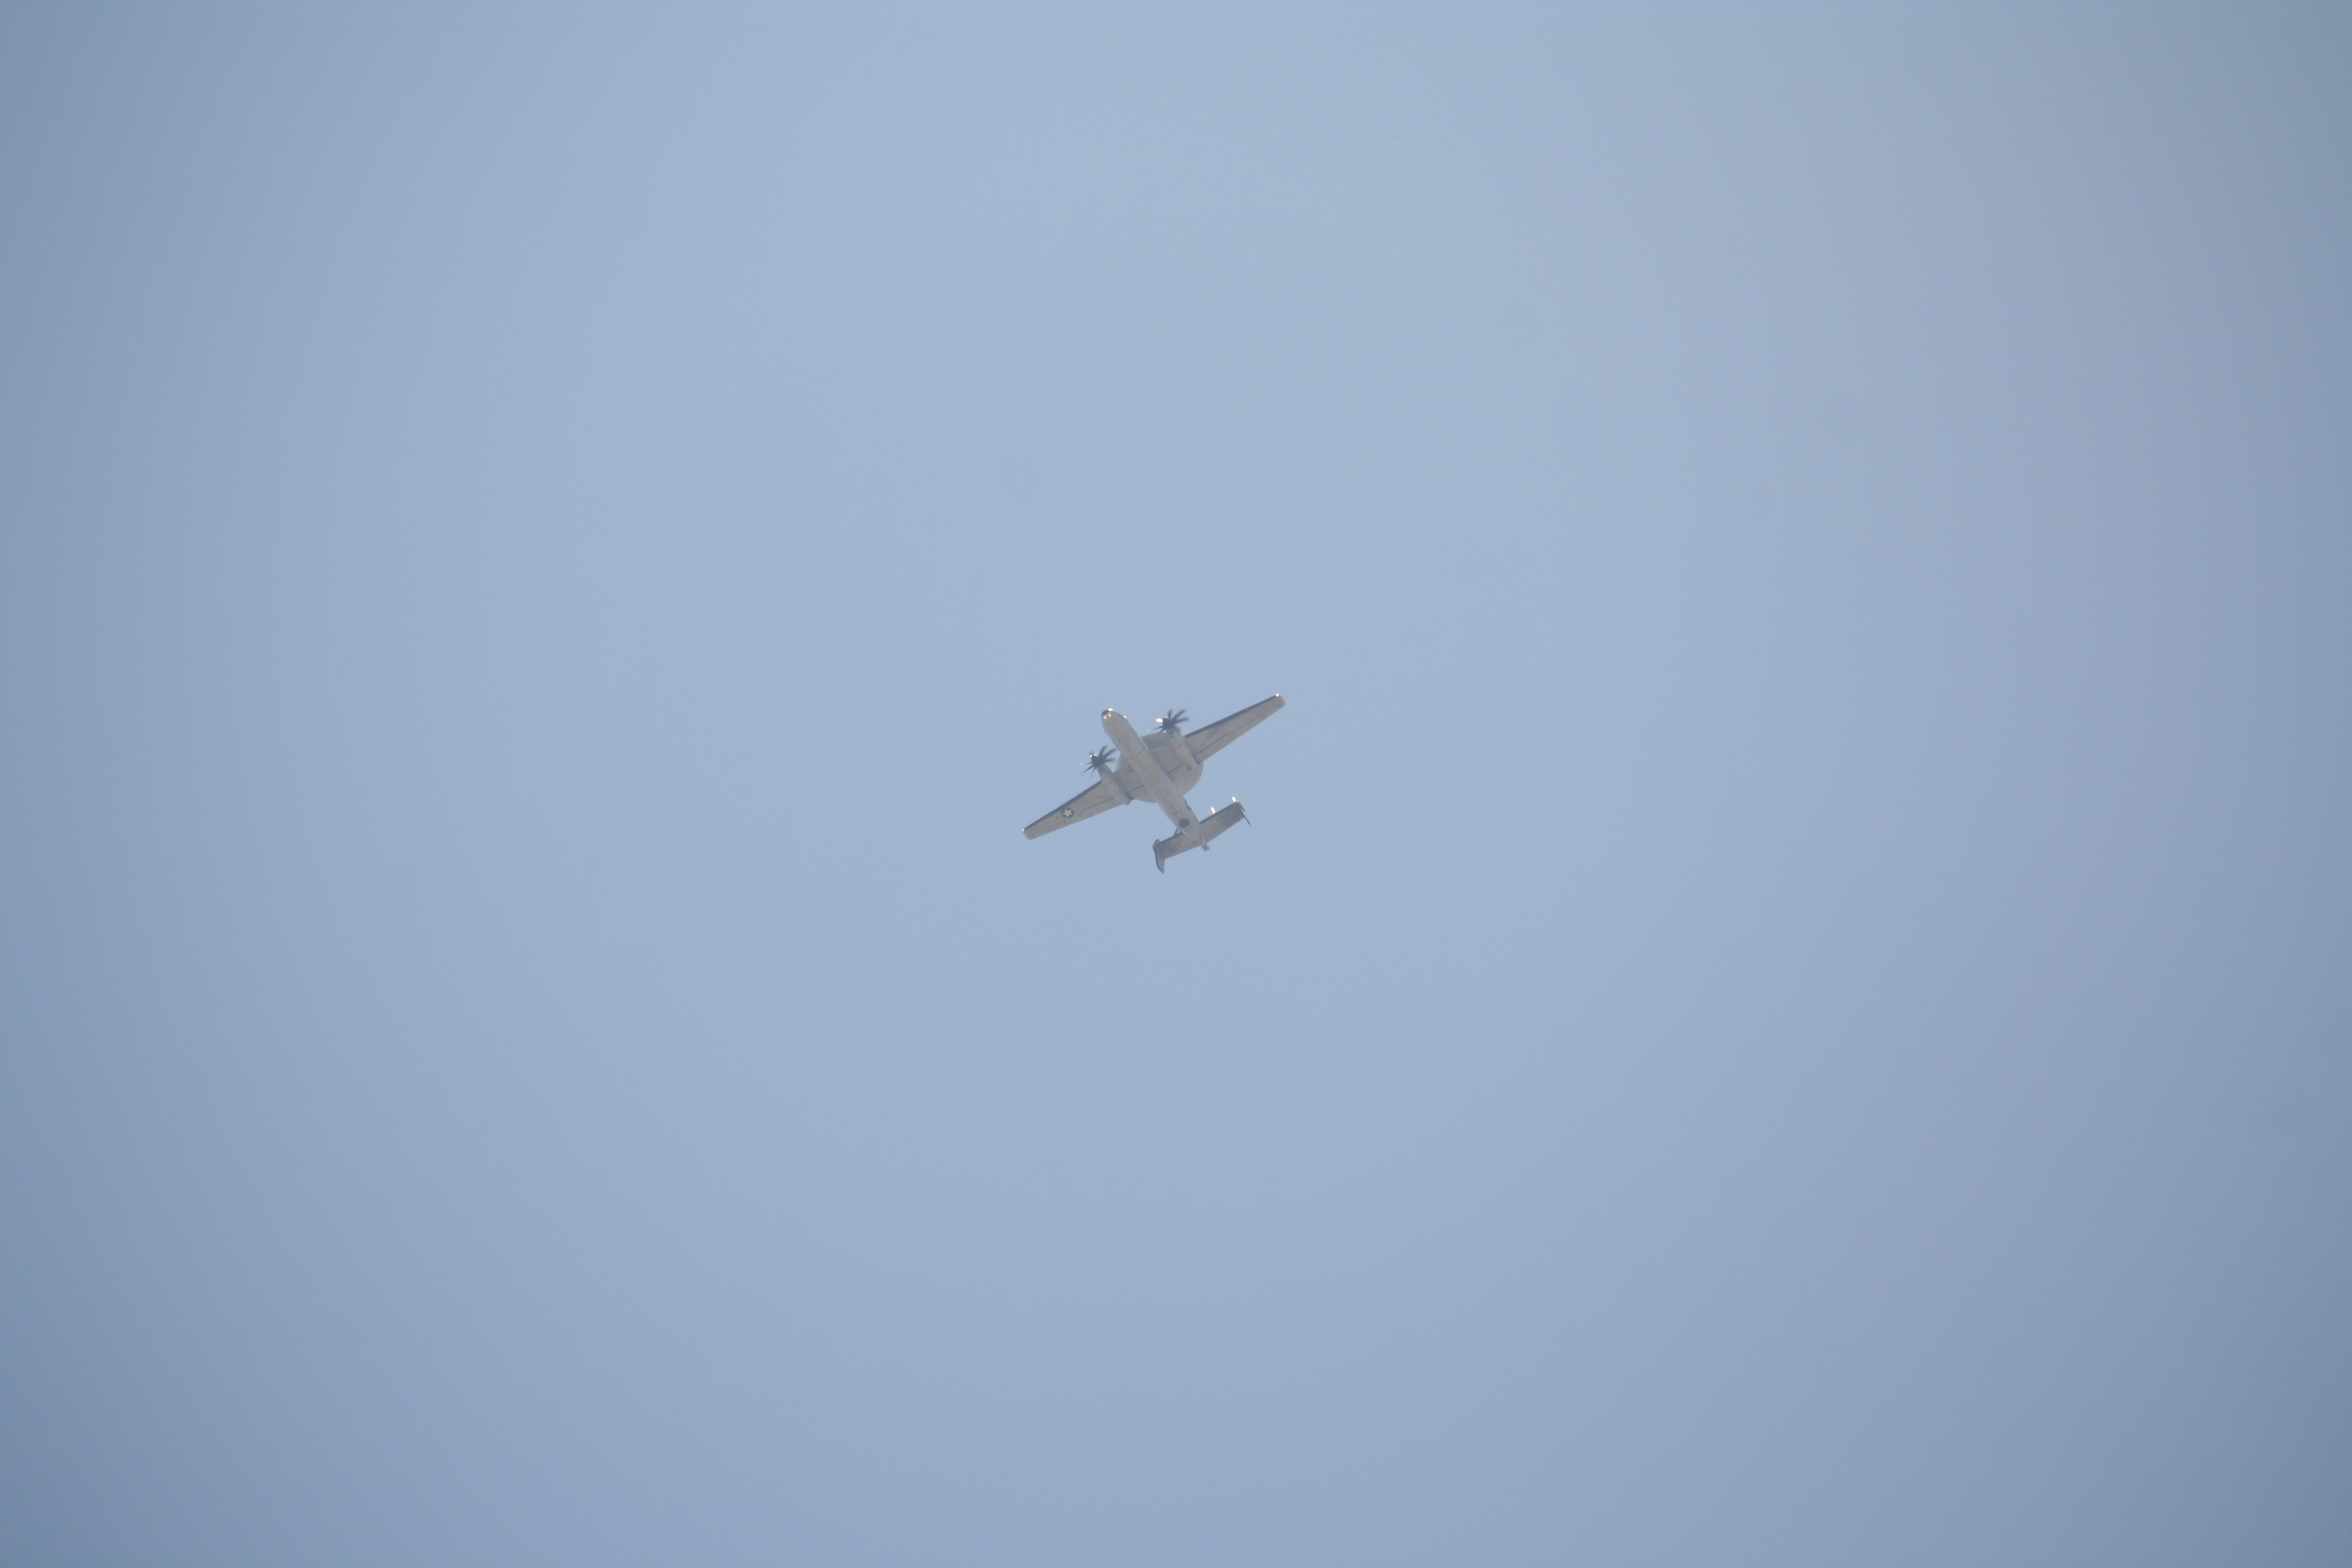E2: (1022, 693, 1286, 875)
